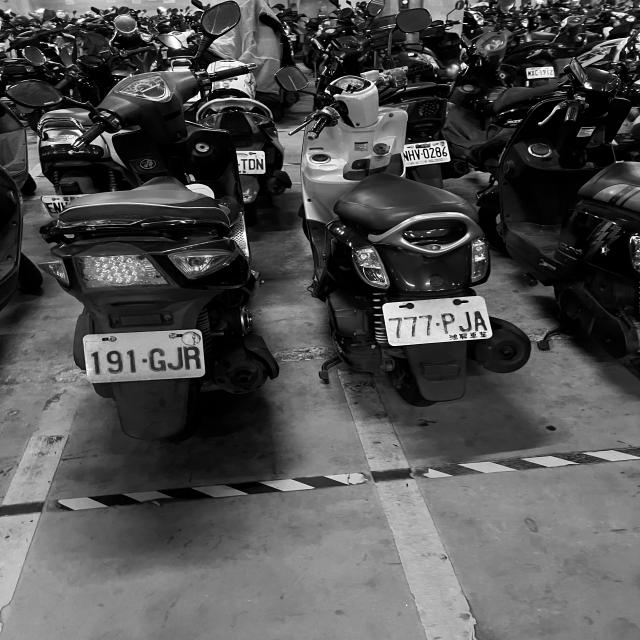-: (141, 358, 148, 363), (436, 322, 440, 328), (421, 153, 424, 155), (538, 72, 540, 74)
0: (423, 148, 430, 159)
1: (90, 350, 102, 376), (126, 350, 138, 374), (546, 70, 550, 76), (540, 70, 542, 76)
2: (429, 147, 437, 158), (550, 69, 554, 75)
6: (442, 146, 449, 157)
7: (402, 315, 420, 339), (388, 316, 407, 338), (417, 313, 435, 336)
8: (435, 147, 443, 158)
9: (107, 349, 123, 374), (542, 69, 546, 75)
A: (473, 309, 488, 332)
C: (534, 70, 538, 76)
D: (248, 158, 256, 170)
G: (148, 346, 167, 372)
H: (407, 150, 415, 161)
J: (167, 347, 185, 371), (458, 310, 473, 333)
M: (528, 70, 532, 76)
N: (256, 159, 264, 170)
P: (440, 311, 460, 334)
R: (182, 345, 203, 370)
T: (240, 158, 248, 170)
V: (414, 149, 421, 160)
X: (532, 70, 534, 76)
plate: (85, 335, 206, 382), (381, 298, 493, 344), (526, 67, 555, 78)
